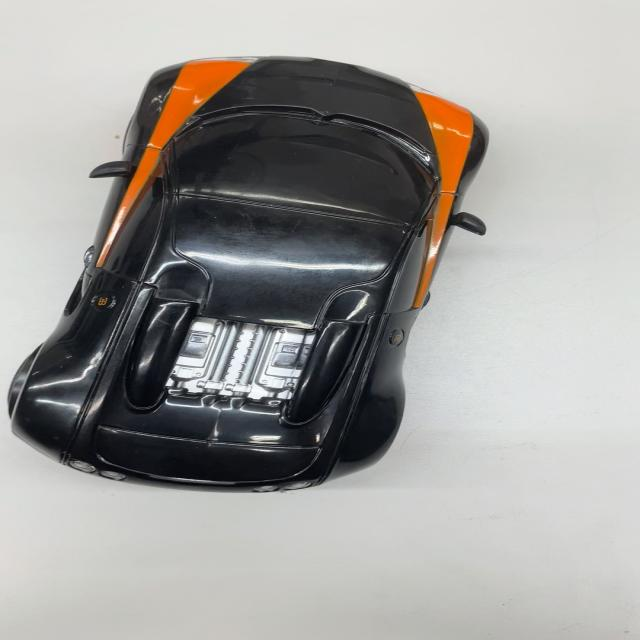vehicle_body: (9, 54, 489, 493)
